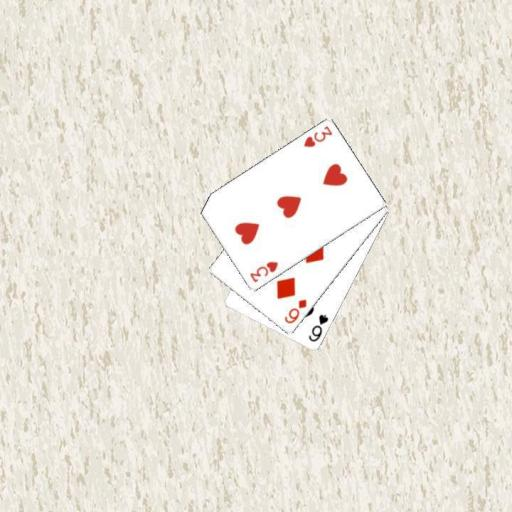card-corner: (246, 258, 280, 285), (300, 123, 334, 149), (305, 312, 330, 344), (282, 296, 308, 326)
